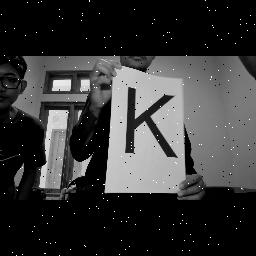k: (123, 84, 179, 162)
